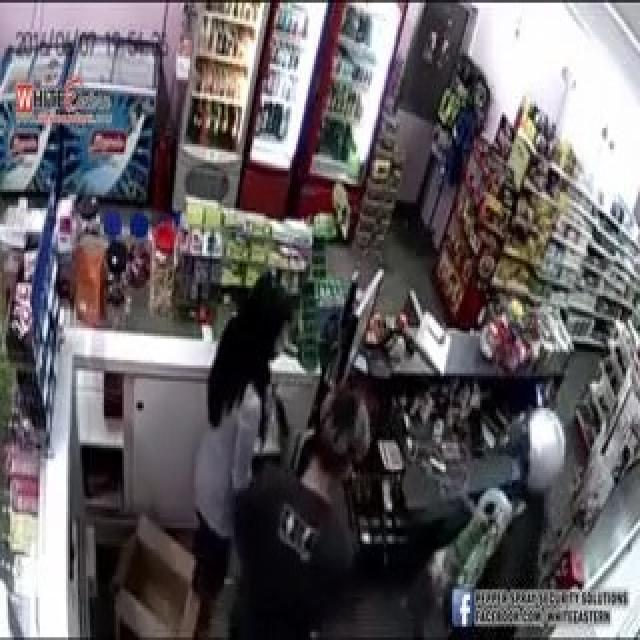Shoplifting: (228, 281, 578, 602)
